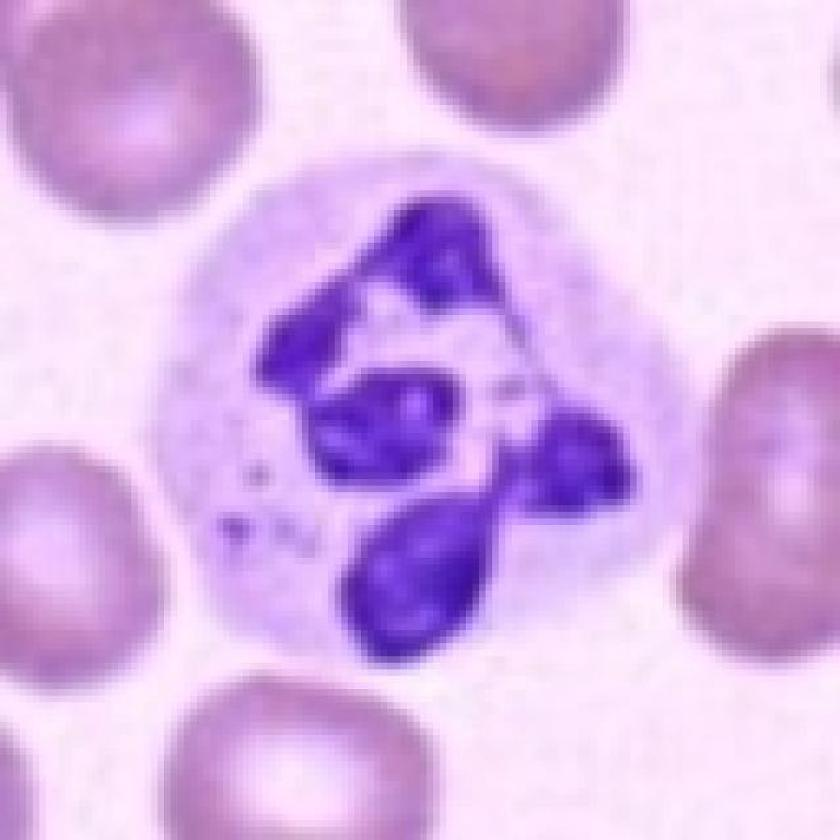neutrophil: (144, 145, 703, 677)
